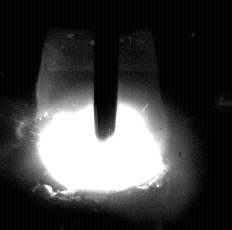arame: (95, 0, 119, 141)
poca: (37, 0, 167, 230)
